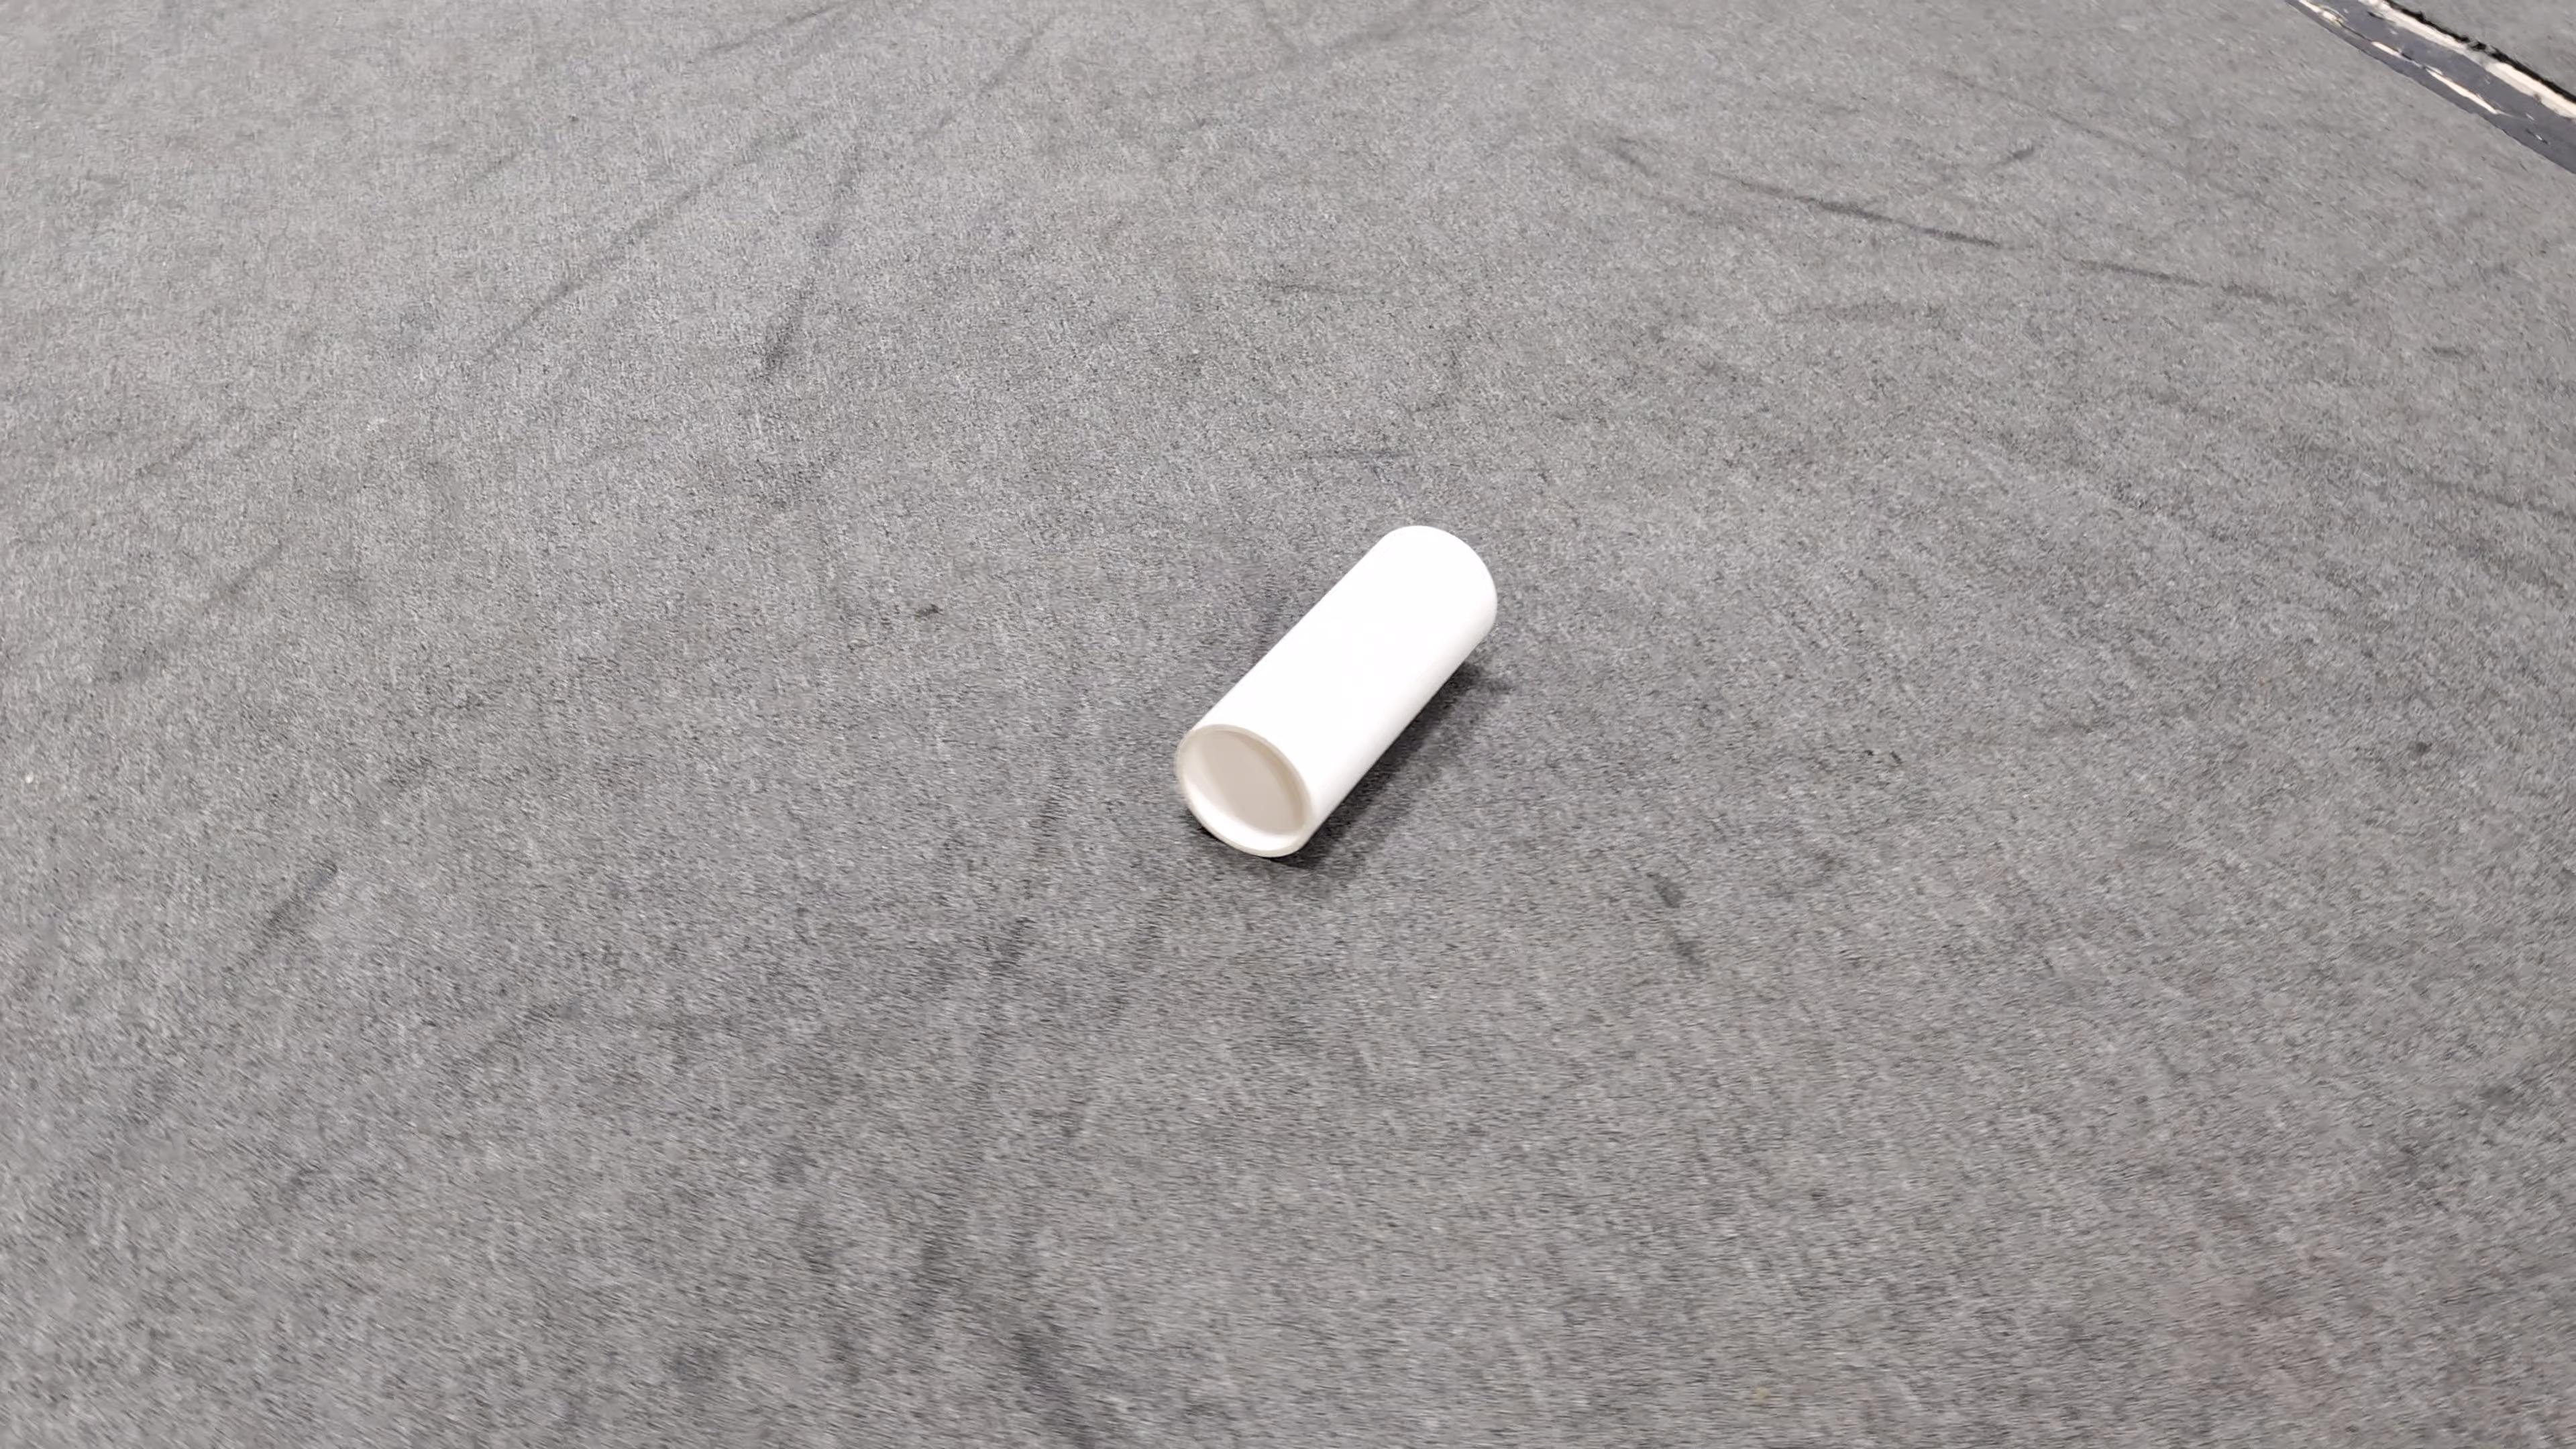coral: (1171, 522, 1502, 855)
